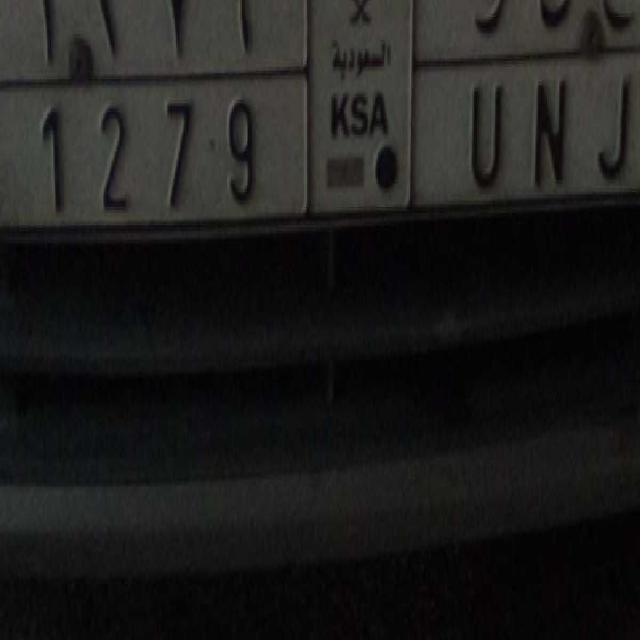license_plate: (22, 48, 640, 250)
